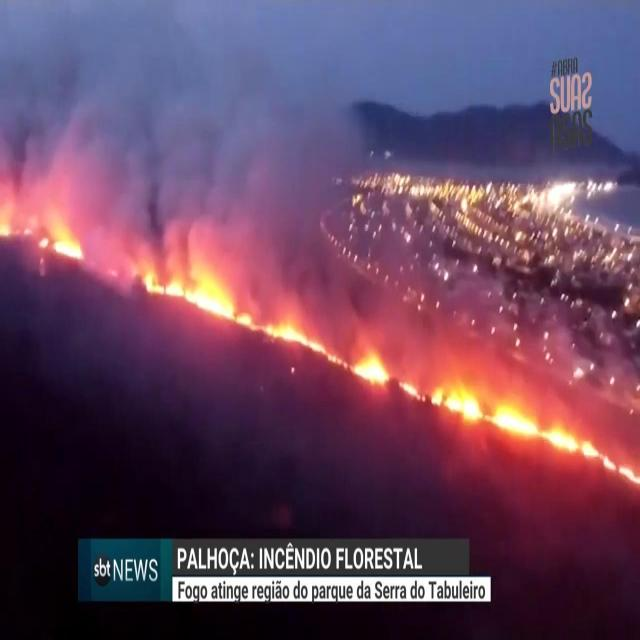Fire: (144, 270, 388, 384), (434, 393, 638, 484), (41, 231, 83, 263), (401, 380, 425, 404), (1, 220, 11, 237)
